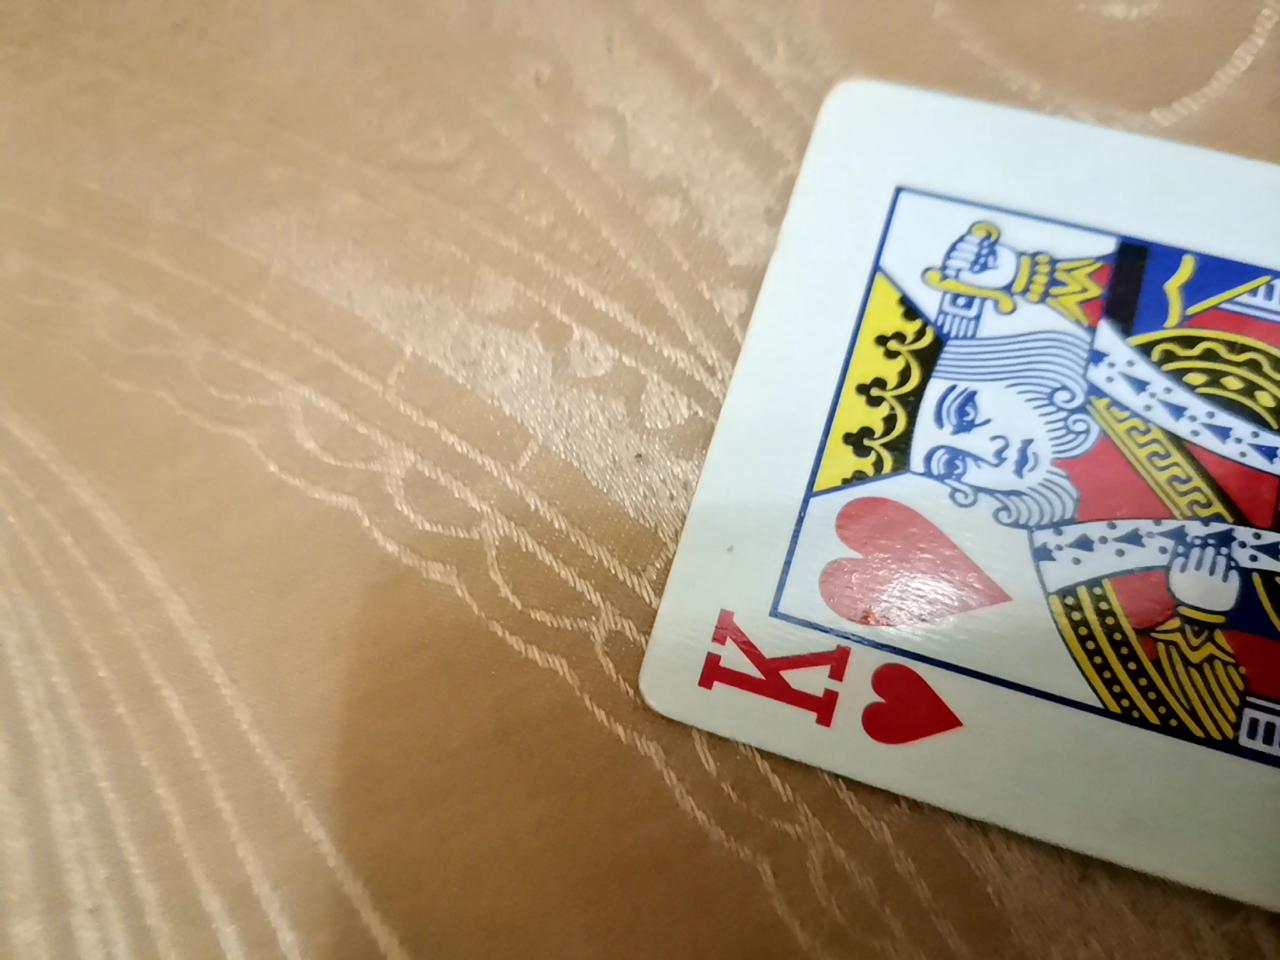hx k: (657, 53, 1272, 960)
